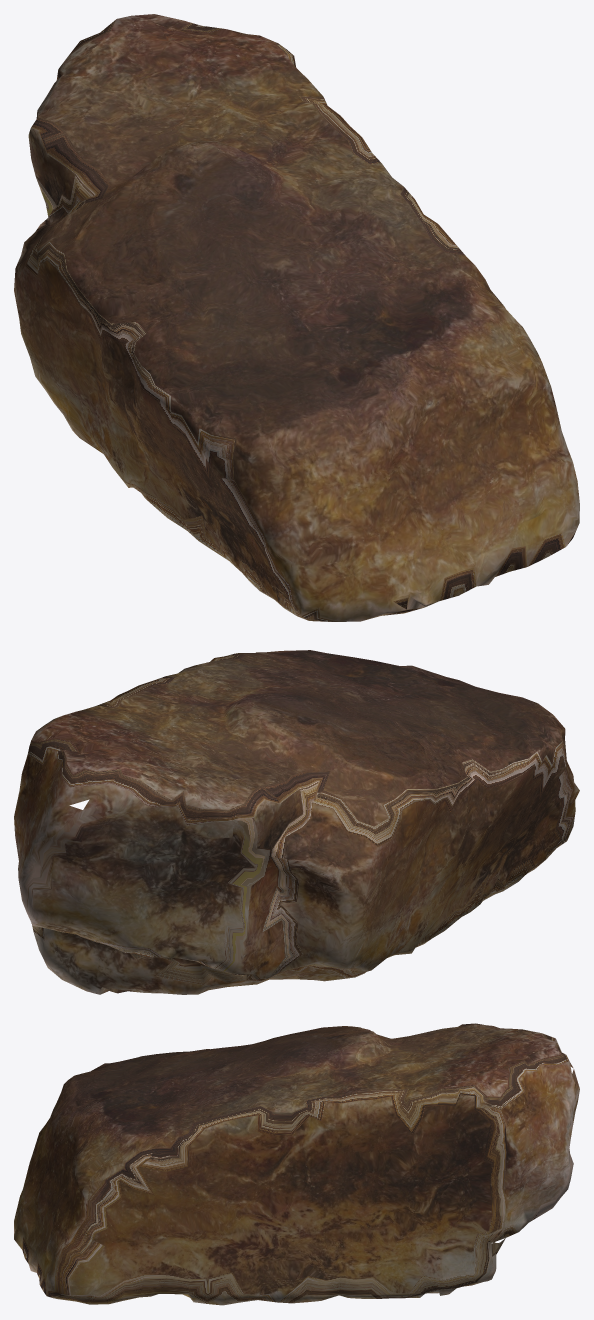
File: rock_07_mobile.gltf
The picture shows the model from 3 angles, top to bottom: view 1: azimuth 30°, elevation 25°; view 2: azimuth 150°, elevation 25°; view 3: azimuth 270°, elevation 25°; orthographic projection. The views are drawn at different scales.
Visible parts, largest first — view 1: rock_07; view 2: rock_07; view 3: rock_07.
Boxes of the visible parts, x1=… form: rock_07: x1=14, y1=14, x2=579, y2=621; rock_07: x1=14, y1=650, x2=579, y2=994; rock_07: x1=14, y1=1023, x2=579, y2=1305.
Size of the model in its own units: 0.1673 by 0.1424 by 0.3184.
1 material, 1 textured.
